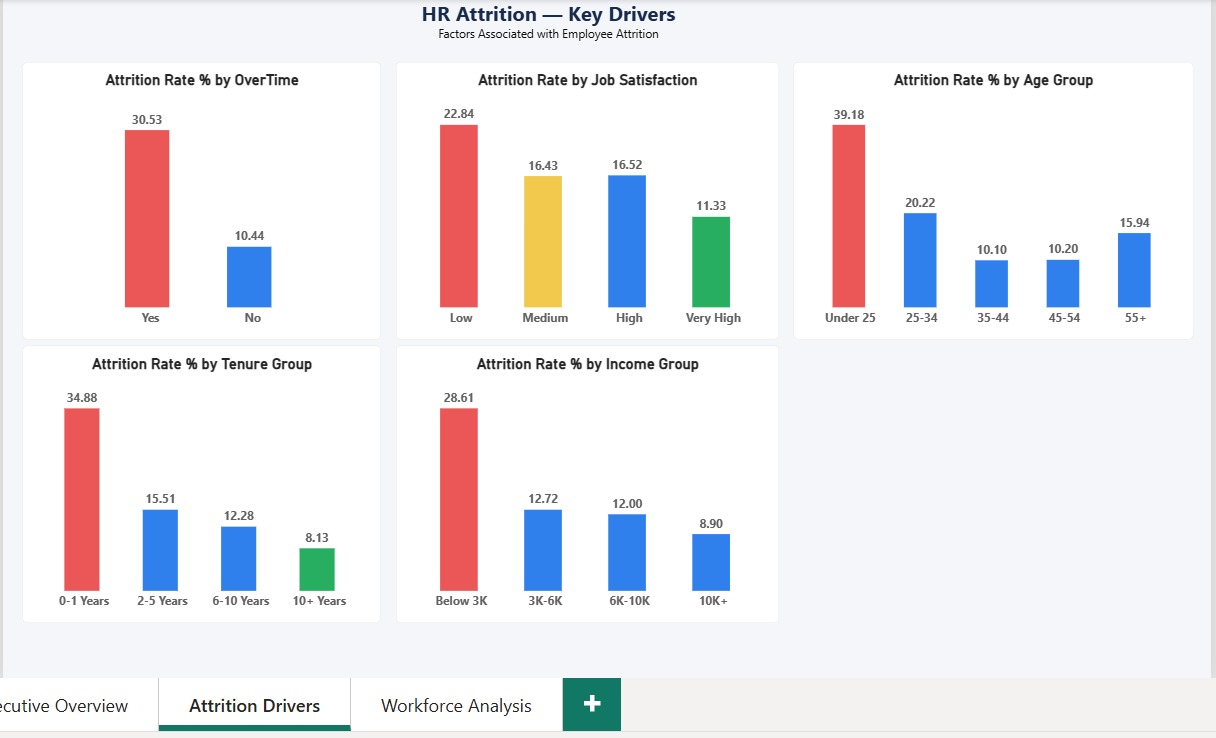

What the dashboard file says about the page in this screenshot:
{"tool":"powerbi","page":{"name":"Attrition Drivers","canvas":[1920,1080],"ordinal":1},"visuals":[{"type":"clusteredColumnChart","fields":{"Category":["HR-Employee-Attrition.OverTime"],"Y":["Measures Table.Attrition Rate"]},"box":[31.5,99.5,570.2,441.6],"z":0},{"type":"clusteredColumnChart","title":"Attrition Rate by Job Satisfaction","fields":{"Category":["HR-Employee-Attrition.Satisfaction Level"],"Y":["Measures Table.Attrition Rate"]},"box":[626,99.5,609,441.6],"z":1000},{"type":"clusteredColumnChart","fields":{"Y":["Measures Table.Attrition Rate"],"Category":["HR-Employee-Attrition.Age Group"]},"box":[1256.8,99.5,635.7,441.6],"z":2000},{"type":"clusteredColumnChart","fields":{"Category":["HR-Employee-Attrition.Tenure Group"],"Y":["Measures Table.Attrition Rate"]},"box":[31.5,550.8,570.2,441.6],"z":3000},{"type":"clusteredColumnChart","fields":{"Category":["HR-Employee-Attrition.Income Group"],"Y":["Measures Table.Attrition Rate"]},"box":[626,550.8,609,441.6],"z":4000},{"type":"textbox","box":[347,0,1043.3,70.4],"z":5000}]}

Visuals, with their boxes on the page's 1920x1080 design canvas (x1, y1, x2, y2). These are canvas units, not pixel positions in the 1216x738 screenshot, which may show the page scaled, cropped or inside an application window:
clusteredColumnChart - HR-Employee-Attrition.OverTime x Measures Table.Attrition Rate: select_region(32, 100, 602, 541)
"Attrition Rate by Job Satisfaction" clusteredColumnChart: select_region(626, 100, 1235, 541)
clusteredColumnChart - Measures Table.Attrition Rate x HR-Employee-Attrition.Age Group: select_region(1257, 100, 1892, 541)
clusteredColumnChart - HR-Employee-Attrition.Tenure Group x Measures Table.Attrition Rate: select_region(32, 551, 602, 992)
clusteredColumnChart - HR-Employee-Attrition.Income Group x Measures Table.Attrition Rate: select_region(626, 551, 1235, 992)
textbox: select_region(347, 0, 1390, 70)
